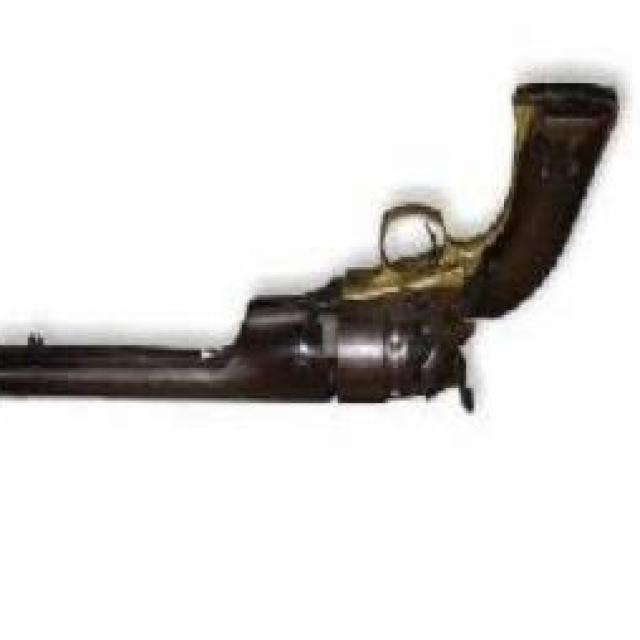pistol: (0, 81, 623, 424)
